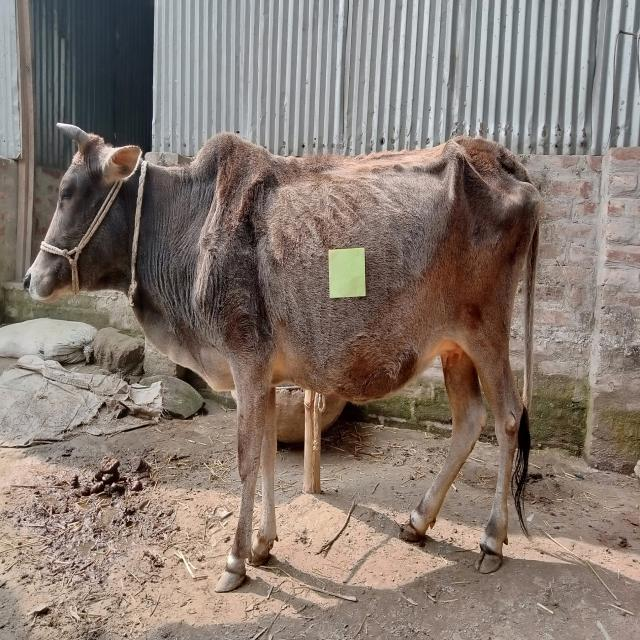badan_sapi: (223, 154, 526, 391)
sapi: (25, 120, 550, 594)
